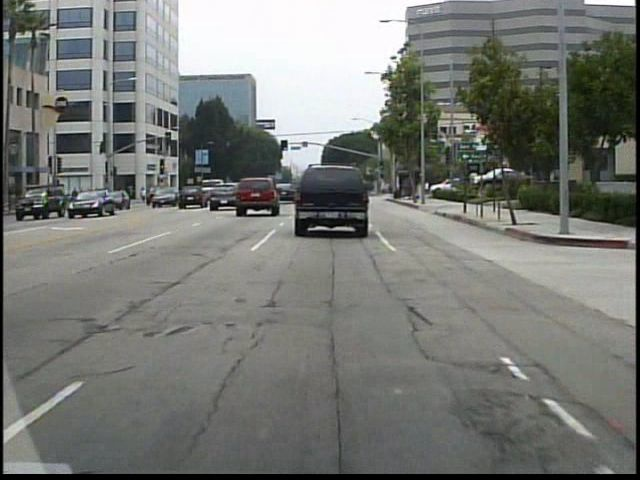person: (138, 184, 150, 206)
